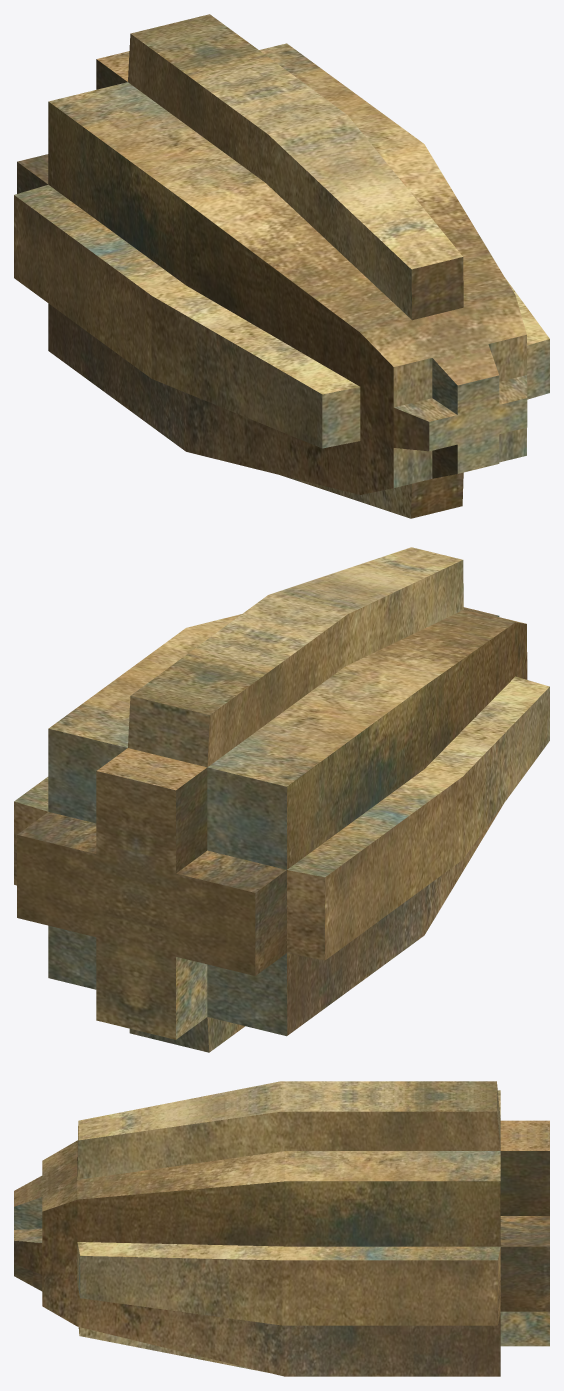
File: bullet.fbx
The picture shows the model from 3 angles, top to bottom: view 1: azimuth 30°, elevation 25°; view 2: azimuth 150°, elevation 25°; view 3: azimuth 270°, elevation 25°; orthographic projection. The views are drawn at different scales.
Visible parts, largest first — view 1: Cube; view 2: Cube; view 3: Cube.
Part boxes in pixels (bbox=[...]): Cube: bbox=[14, 14, 549, 518]; Cube: bbox=[14, 547, 549, 1052]; Cube: bbox=[14, 1081, 549, 1376].
Bounding box in the file's own units: 4.06 × 4.2 × 7.73.
